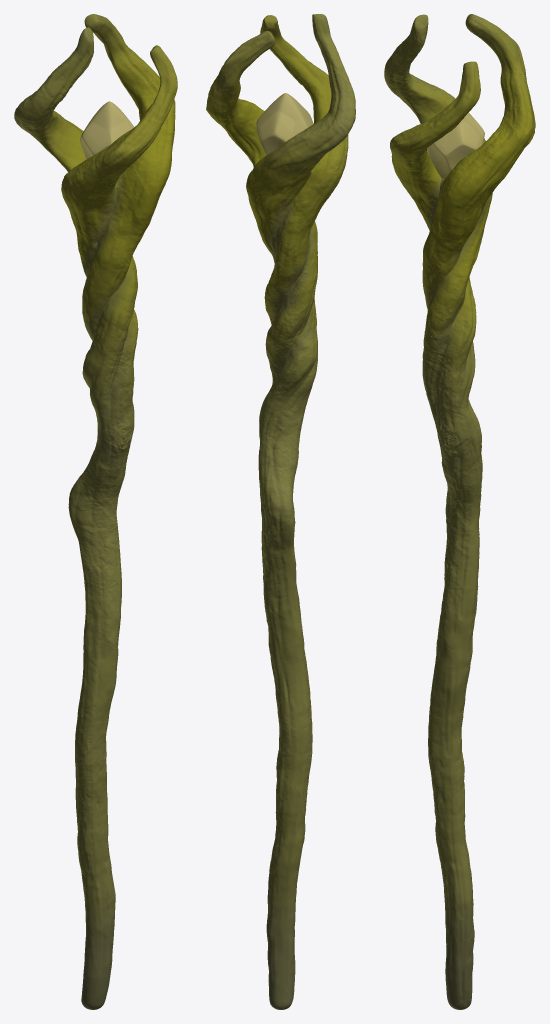
File: staff-transformed.glb
3 views of the same model, side by side, from view 1: azimuth 30°, elevation 25°; view 2: azimuth 150°, elevation 25°; view 3: azimuth 330°, elevation 25° (orthographic).
Visible parts, largest first — view 1: Wizard_Staff3_Wizard_Staff3_0, Wizard_Staff3_Wizard_Staff3_0_2, Wizard_Staff3_Wizard_Staff3_0_1, Wizard_Staff3_Wizard_Staff3_0_3, Wizard_Staff2_Wizard_Staff2_0; view 2: Wizard_Staff3_Wizard_Staff3_0_2, Wizard_Staff3_Wizard_Staff3_0_1, Wizard_Staff3_Wizard_Staff3_0, Wizard_Staff3_Wizard_Staff3_0_3, Wizard_Staff2_Wizard_Staff2_0; view 3: Wizard_Staff3_Wizard_Staff3_0, Wizard_Staff3_Wizard_Staff3_0_2, Wizard_Staff3_Wizard_Staff3_0_3, Wizard_Staff3_Wizard_Staff3_0_1, Wizard_Staff2_Wizard_Staff2_0.
Boxes of the visible parts, x1,y1,x2,y2 form: Wizard_Staff3_Wizard_Staff3_0: (23, 19, 177, 978); Wizard_Staff3_Wizard_Staff3_0_2: (19, 14, 175, 1009); Wizard_Staff3_Wizard_Staff3_0_1: (14, 15, 175, 779); Wizard_Staff3_Wizard_Staff3_0_3: (14, 15, 176, 1009); Wizard_Staff2_Wizard_Staff2_0: (80, 101, 134, 191); Wizard_Staff3_Wizard_Staff3_0_2: (208, 15, 351, 1006); Wizard_Staff3_Wizard_Staff3_0_1: (206, 14, 355, 742); Wizard_Staff3_Wizard_Staff3_0: (206, 26, 355, 969); Wizard_Staff3_Wizard_Staff3_0_3: (207, 14, 355, 1009); Wizard_Staff2_Wizard_Staff2_0: (256, 93, 313, 184); Wizard_Staff3_Wizard_Staff3_0: (384, 22, 535, 996); Wizard_Staff3_Wizard_Staff3_0_2: (386, 14, 532, 1009); Wizard_Staff3_Wizard_Staff3_0_3: (384, 14, 534, 1009); Wizard_Staff3_Wizard_Staff3_0_1: (384, 14, 534, 770); Wizard_Staff2_Wizard_Staff2_0: (427, 112, 484, 181).
Bounding box in the file's own units: 0.2482 × 1.59 × 0.2023.
